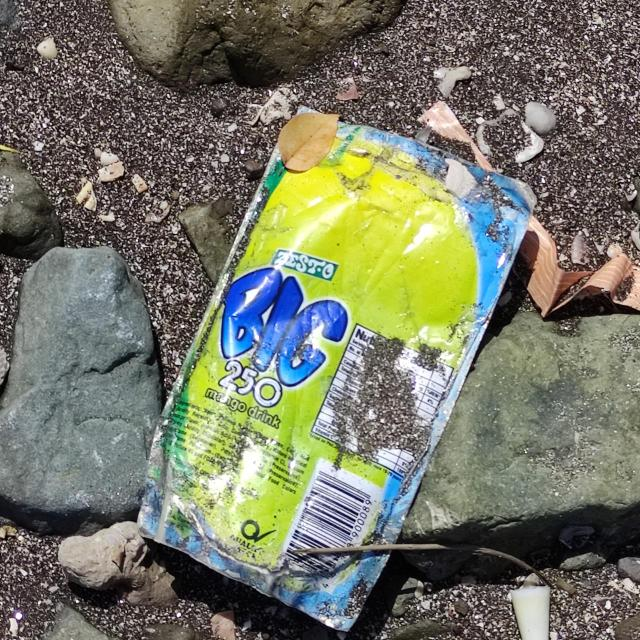plastic_waste: (138, 103, 539, 639)
